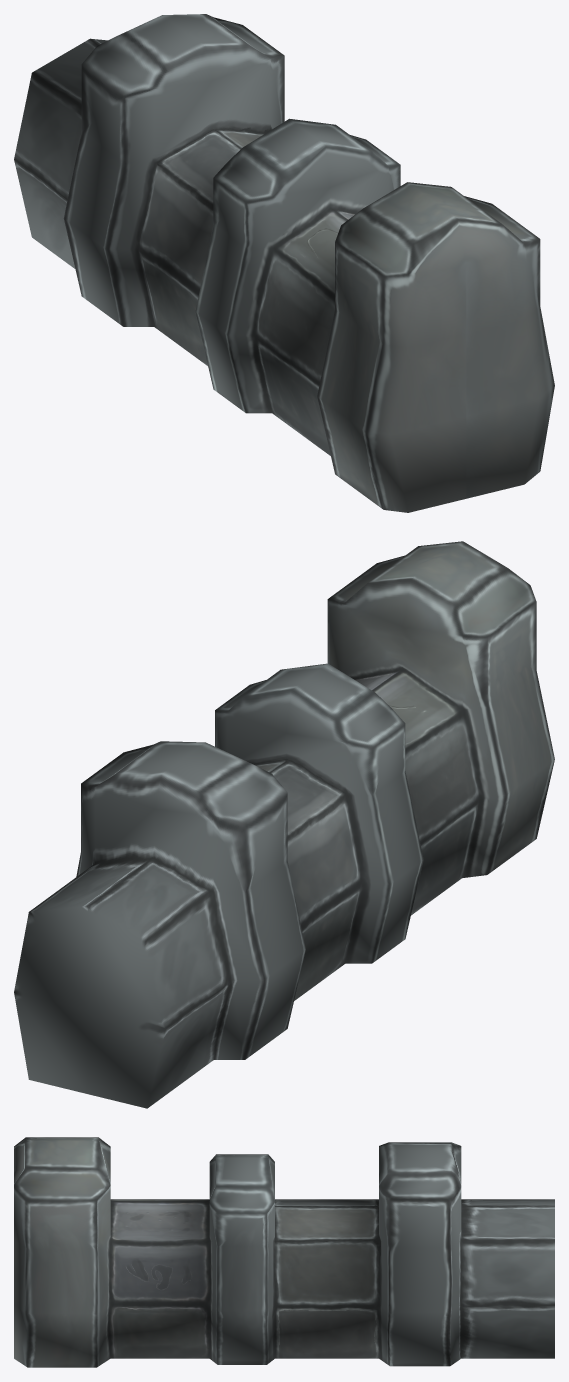
The model's file is cerca_Pedraponta.fbx.
3 renders of one model, top to bottom at view 1: azimuth 30°, elevation 25°; view 2: azimuth 150°, elevation 25°; view 3: azimuth 270°, elevation 25°, orthographic. The views are drawn at different scales.
Parts seen in each view (by area): view 1: Cube; view 2: Cube; view 3: Cube.
Part boxes in pixels (left/top/right/bottom): Cube: left=14, top=14, right=554, bottom=512; Cube: left=14, top=541, right=554, bottom=1108; Cube: left=14, top=1137, right=554, bottom=1367.
Size of the model in its own units: 3.39 by 4.49 by 11.21.
